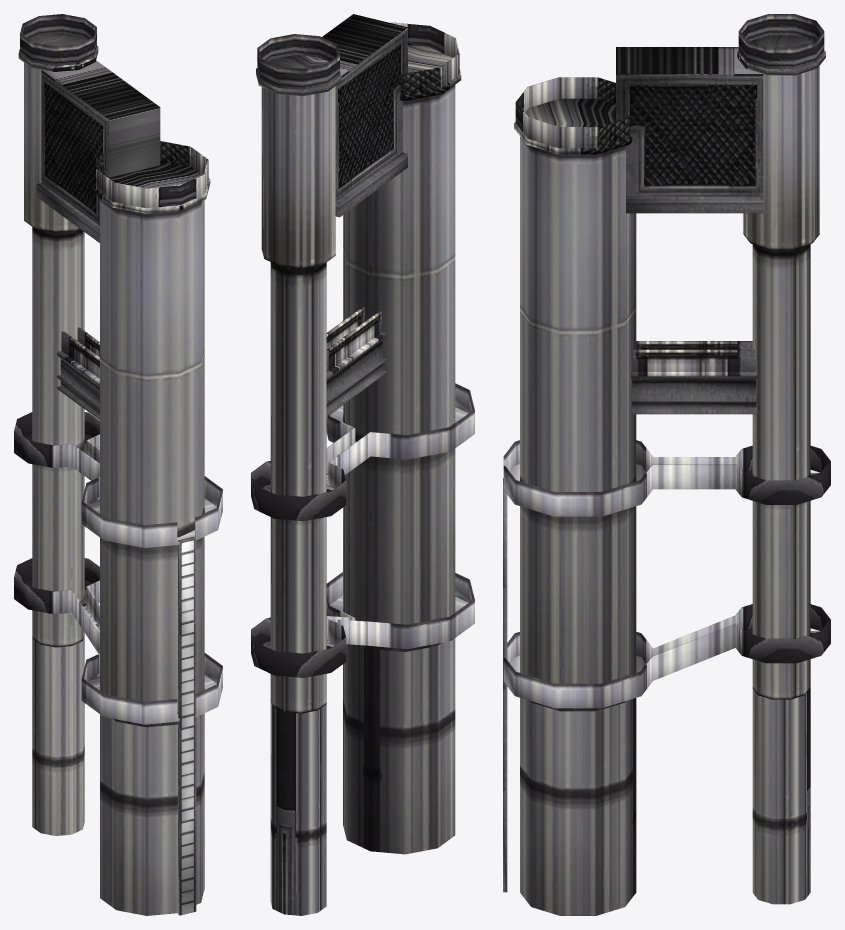
Rendered from indtower5.glb.
3 renders of one model, left to right at view 1: azimuth 30°, elevation 25°; view 2: azimuth 150°, elevation 25°; view 3: azimuth 270°, elevation 25°, orthographic. The views are drawn at different scales.
Parts seen in each view (by area): view 1: it5tower, __lithtech_lh_to_gltf_rh__; view 2: it5tower, __lithtech_lh_to_gltf_rh__; view 3: it5tower, __lithtech_lh_to_gltf_rh__.
Boxes of the visible parts, x1,y1,x2,y2 form: it5tower: (24, 63, 204, 915); __lithtech_lh_to_gltf_rh__: (14, 14, 222, 915); it5tower: (261, 30, 455, 713); __lithtech_lh_to_gltf_rh__: (251, 14, 474, 915); it5tower: (503, 66, 819, 892); __lithtech_lh_to_gltf_rh__: (503, 14, 830, 915).
Size of the model in its own units: 10.25 by 65.41 by 22.56.
Materials: 1 (1 with a texture image).
